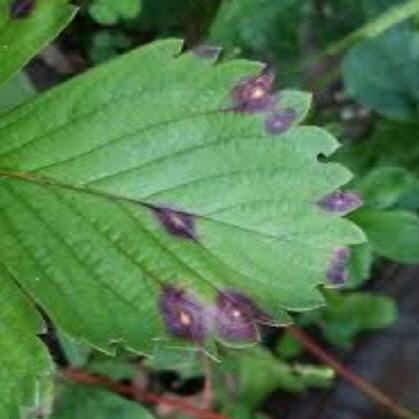Leaf Spot: (0, 37, 373, 363)
